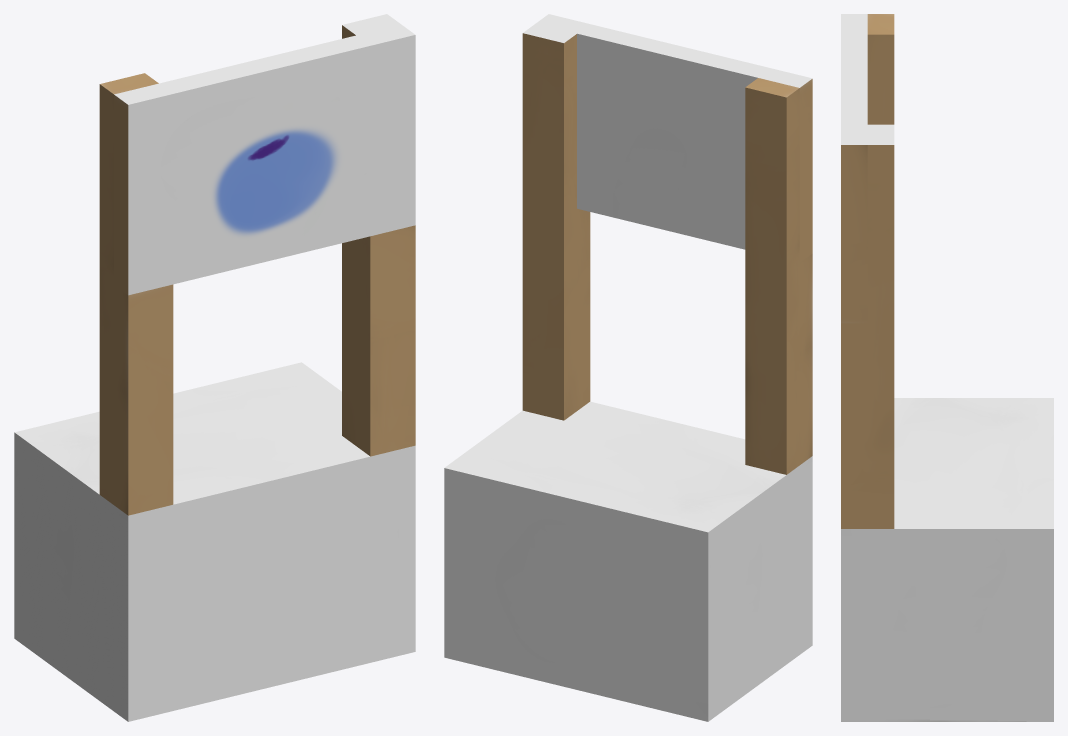
The model's file is stand_model.fbx.
3 renders of one model, left to right at view 1: azimuth 30°, elevation 25°; view 2: azimuth 150°, elevation 25°; view 3: azimuth 270°, elevation 25°, orthographic. The views are drawn at different scales.
Visible parts, largest first — view 1: Cube; view 2: Cube; view 3: Cube.
Boxes of the visible parts, <box> form: Cube: <box>14,14,415,721</box>; Cube: <box>444,14,812,721</box>; Cube: <box>841,14,1053,721</box>.
Size of the model in its own units: 637 by 1308 by 437.
